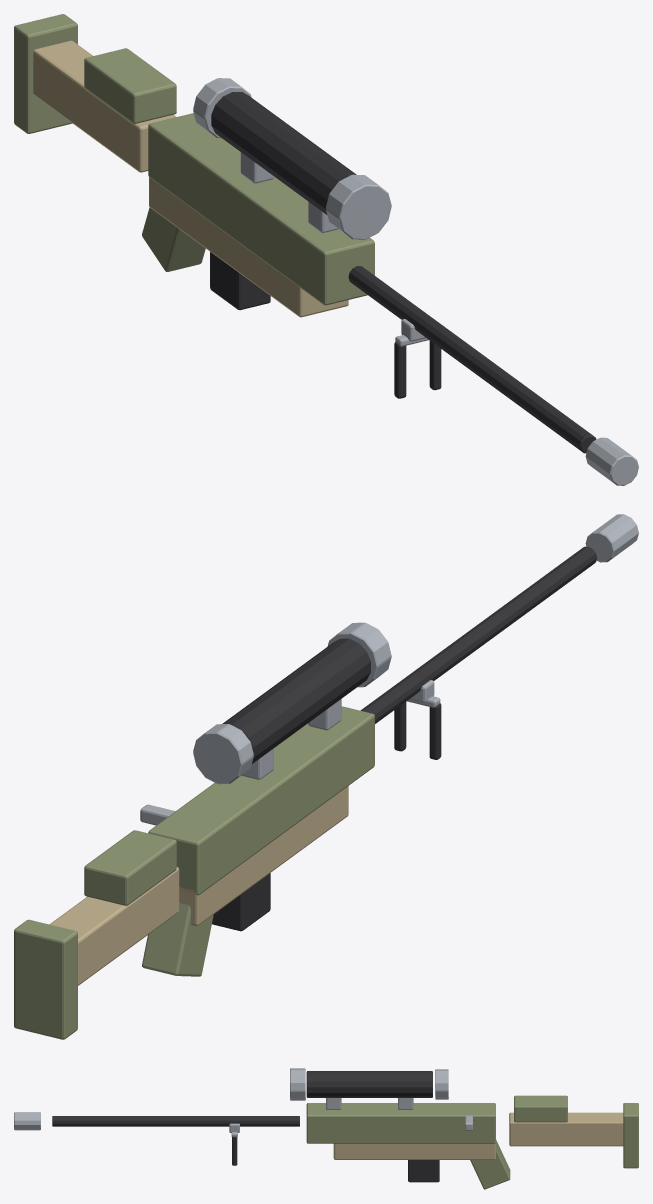
File: sniper.glb
3 renders of one model, top to bottom at view 1: azimuth 30°, elevation 25°; view 2: azimuth 150°, elevation 25°; view 3: azimuth 270°, elevation 25°, orthographic. The views are drawn at different scales.
Parts seen in each view (by area): view 1: Chassis, Scope, Stock, Barrel, Chassis_Bot, Cheek, Butt, Scope_Obj, Grip, Mag, Muzzle_Brake, Scope_Ocular (+1 smaller); view 2: Chassis, Scope, Butt, Stock, Barrel, Chassis_Bot, Cheek, Grip, Scope_Ocular, Mag, Muzzle_Brake, Scope_Obj; view 3: Chassis, Stock, Scope, Chassis_Bot, Barrel, Cheek, Butt, Grip, Mag, Scope_Obj, Muzzle_Brake, Scope_Ocular.
Part boxes in pixels (x1=…): Chassis: x1=148, y1=113, x2=374, y2=305; Scope: x1=211, y1=92, x2=356, y2=214; Stock: x1=33, y1=40, x2=176, y2=172; Barrel: x1=348, y1=266, x2=596, y2=453; Chassis_Bot: x1=149, y1=177, x2=348, y2=317; Cheek: x1=84, y1=48, x2=176, y2=123; Butt: x1=14, y1=14, x2=77, y2=133; Scope_Obj: x1=326, y1=174, x2=391, y2=239; Grip: x1=142, y1=207, x2=205, y2=271; Mag: x1=210, y1=252, x2=270, y2=310; Muzzle_Brake: x1=585, y1=437, x2=638, y2=485; Scope_Ocular: x1=193, y1=78, x2=251, y2=138; Chassis: x1=148, y1=706, x2=374, y2=895; Scope: x1=222, y1=638, x2=370, y2=763; Butt: x1=14, y1=919, x2=77, y2=1039; Stock: x1=49, y1=867, x2=179, y2=985; Barrel: x1=360, y1=546, x2=596, y2=723; Chassis_Bot: x1=179, y1=786, x2=348, y2=925; Cheek: x1=84, y1=830, x2=176, y2=905; Grip: x1=142, y1=903, x2=213, y2=976; Scope_Ocular: x1=193, y1=724, x2=253, y2=784; Mag: x1=212, y1=873, x2=270, y2=931; Muzzle_Brake: x1=585, y1=514, x2=638, y2=562; Scope_Obj: x1=327, y1=622, x2=391, y2=687; Chassis: x1=306, y1=1103, x2=495, y2=1143; Stock: x1=509, y1=1112, x2=623, y2=1146; Scope: x1=306, y1=1071, x2=432, y2=1097; Chassis_Bot: x1=333, y1=1143, x2=495, y2=1159; Barrel: x1=52, y1=1116, x2=299, y2=1126; Cheek: x1=514, y1=1095, x2=567, y2=1122; Butt: x1=623, y1=1103, x2=638, y2=1168; Grip: x1=470, y1=1139, x2=510, y2=1189; Mag: x1=408, y1=1160, x2=439, y2=1182; Scope_Obj: x1=290, y1=1068, x2=305, y2=1100; Muzzle_Brake: x1=14, y1=1112, x2=40, y2=1130; Scope_Ocular: x1=435, y1=1069, x2=448, y2=1099.
Bounding box in the file's own units: 0.1106 × 0.2824 × 1.39.
